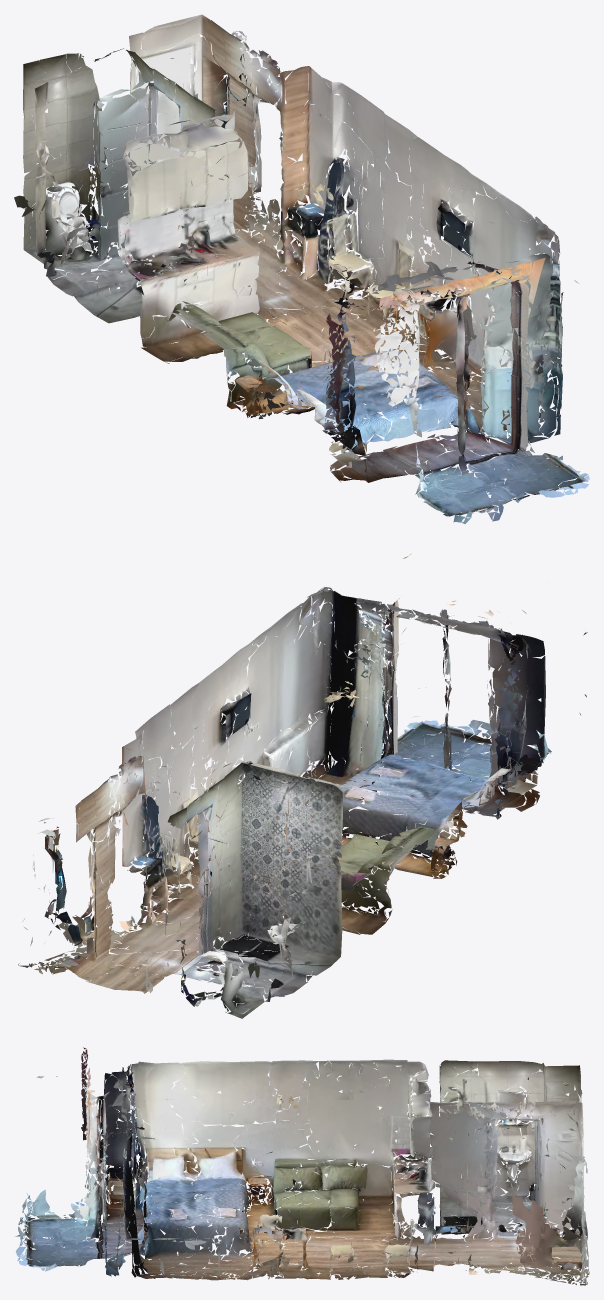
Rendered from gudauri.glb.
The picture shows the model from 3 angles, top to bottom: view 1: azimuth 30°, elevation 25°; view 2: azimuth 150°, elevation 25°; view 3: azimuth 270°, elevation 25°; orthographic projection. The views are drawn at different scales.
Visible parts, largest first — view 1: gudauri; view 2: gudauri; view 3: gudauri.
Boxes of the visible parts, x1,y1,x2,y2 form: gudauri: (14, 14, 589, 523); gudauri: (18, 553, 587, 1018); gudauri: (15, 1047, 589, 1285).
Size of the model in its own units: 634 by 438 by 1540.
6 materials, 6 textured.
